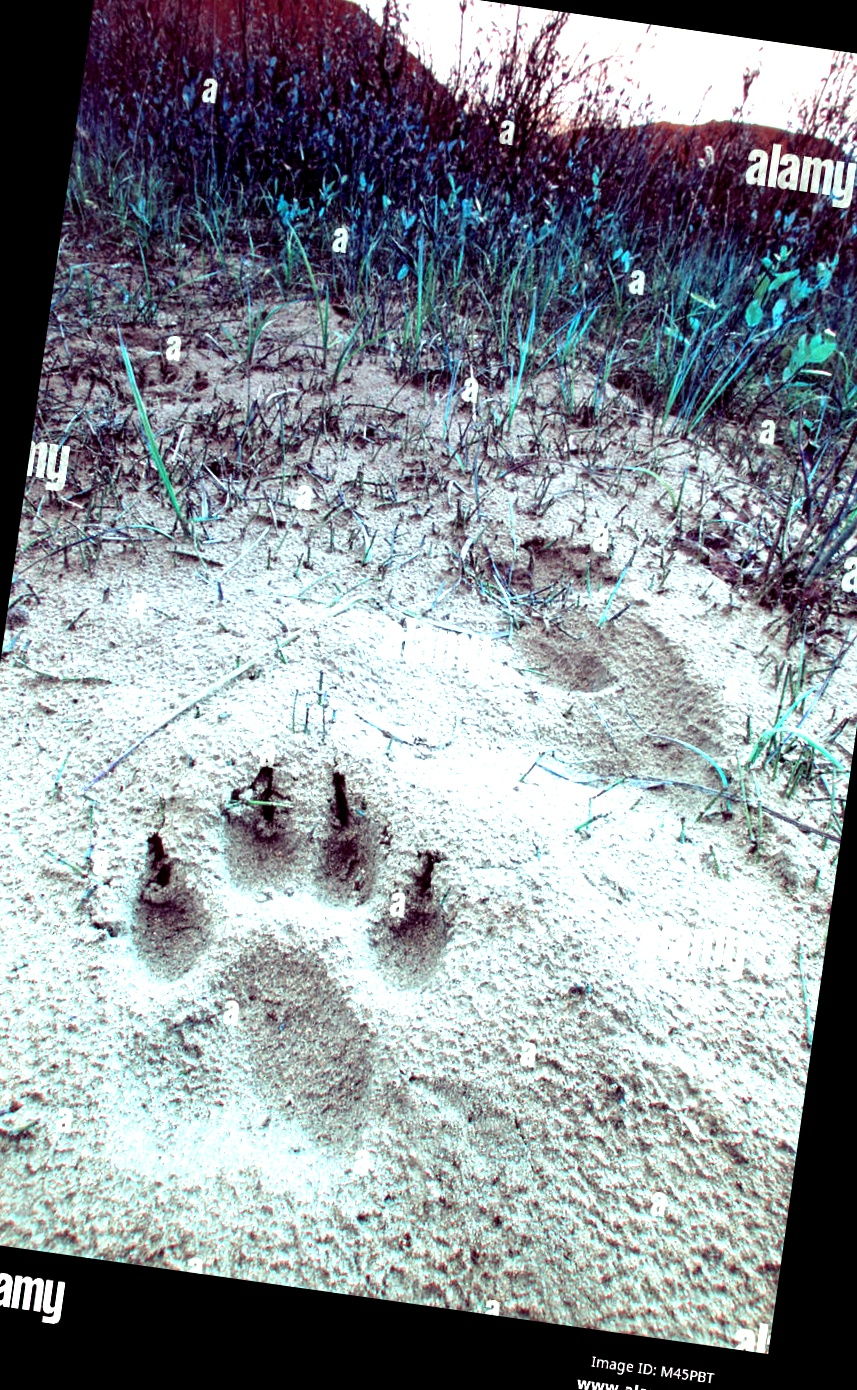loup: (30, 662, 556, 1231)
